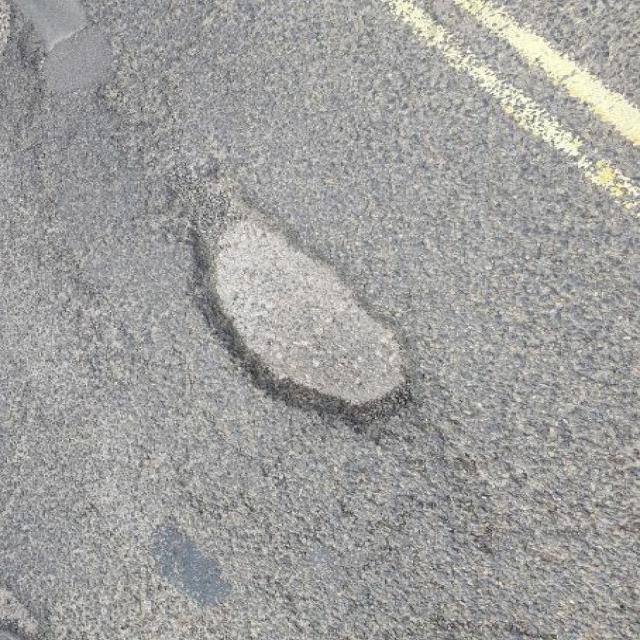pothole: (175, 164, 426, 431)
